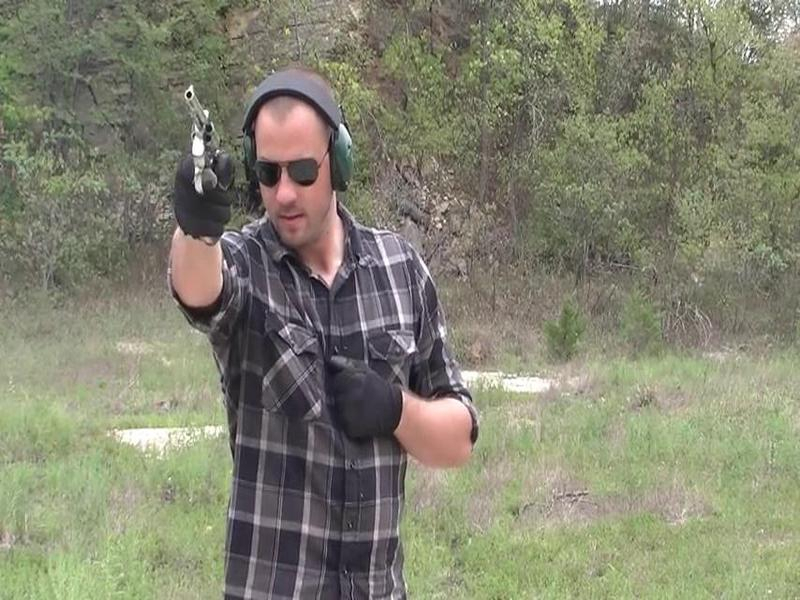Revolver: (157, 83, 232, 228)
